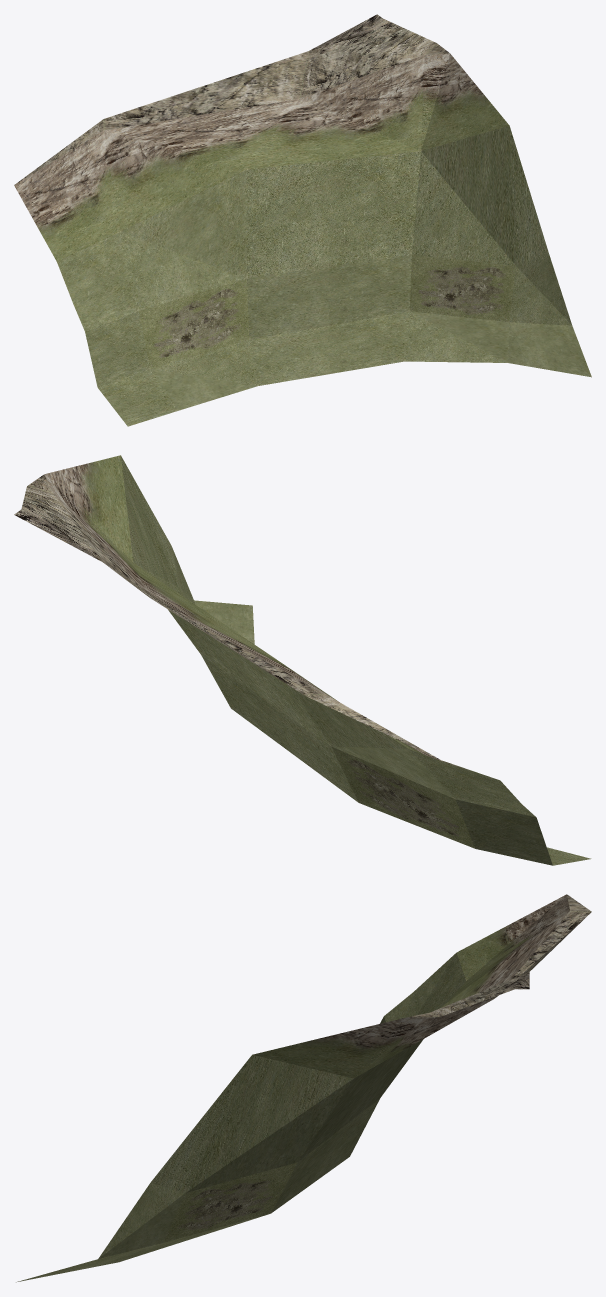
Rendered from land2_sfn15.obj.
3 renders of one model, top to bottom at view 1: azimuth 30°, elevation 25°; view 2: azimuth 150°, elevation 25°; view 3: azimuth 270°, elevation 25°, orthographic. The views are drawn at different scales.
Visible parts, largest first — view 1: land2_sfN15; view 2: land2_sfN15; view 3: land2_sfN15.
Boxes of the visible parts, x1,y1,x2,y2 form: land2_sfN15: [14, 14, 591, 426]; land2_sfN15: [14, 455, 591, 865]; land2_sfN15: [16, 894, 591, 1282].
Bounding box in the file's own units: 222 × 144 × 229.
Materials: 6 (6 with a texture image).
